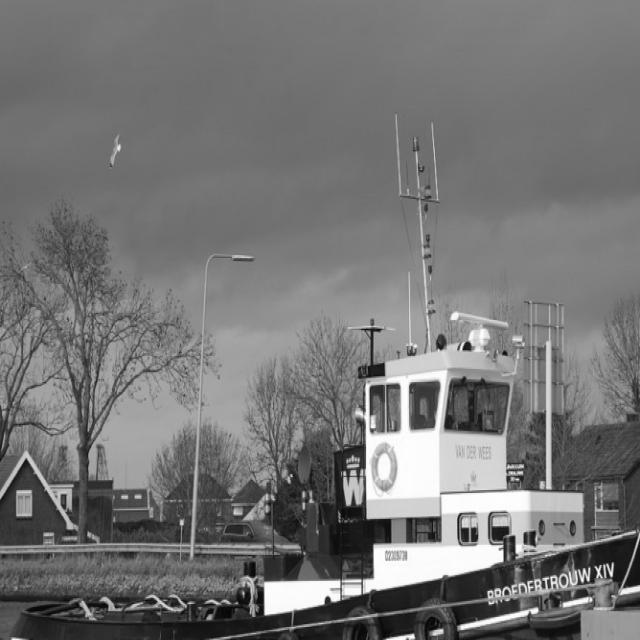tugboat: (1, 309, 640, 640)
